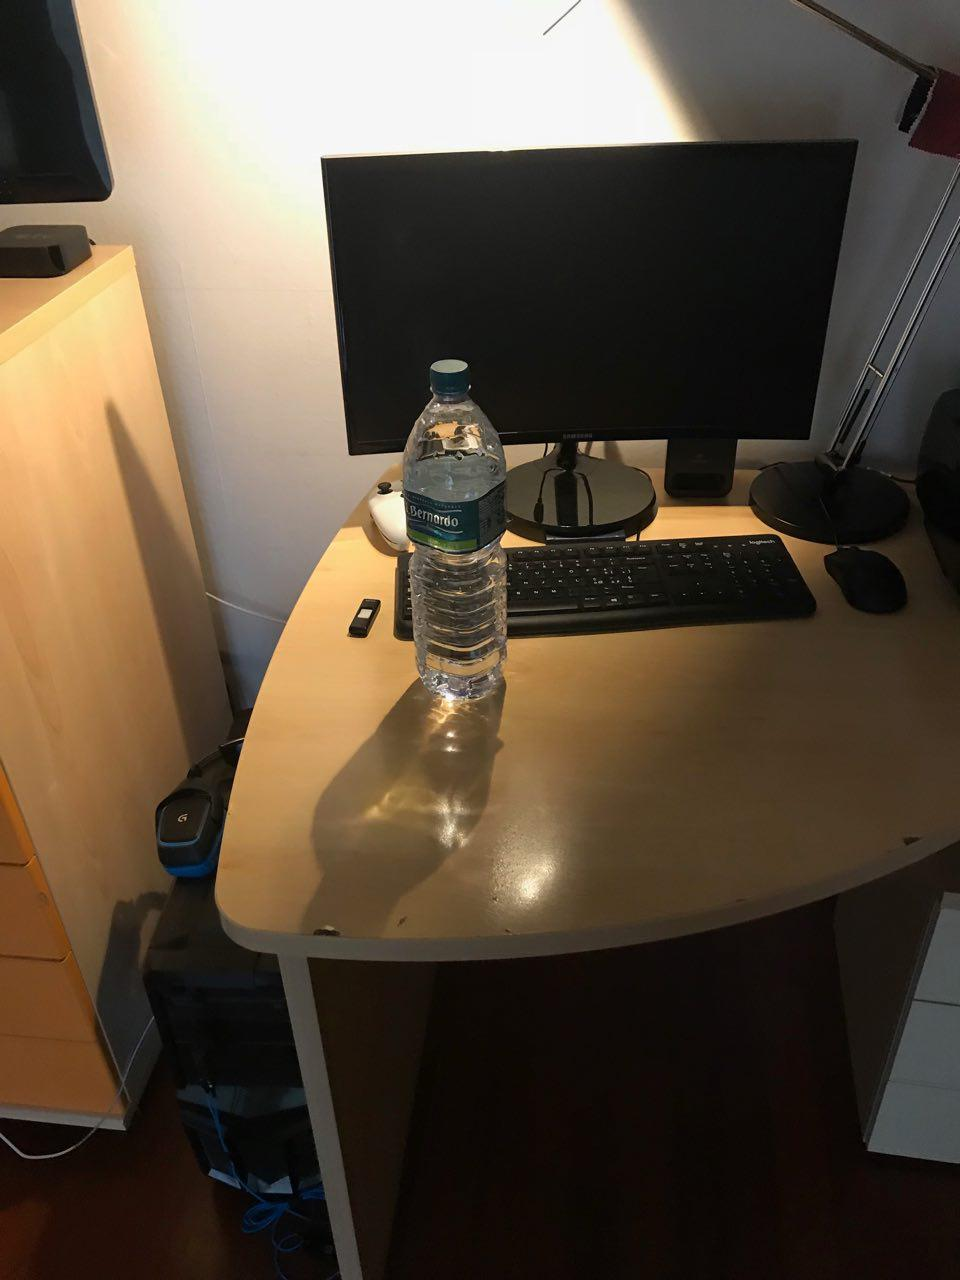san_bernardo: (402, 356, 509, 705)
